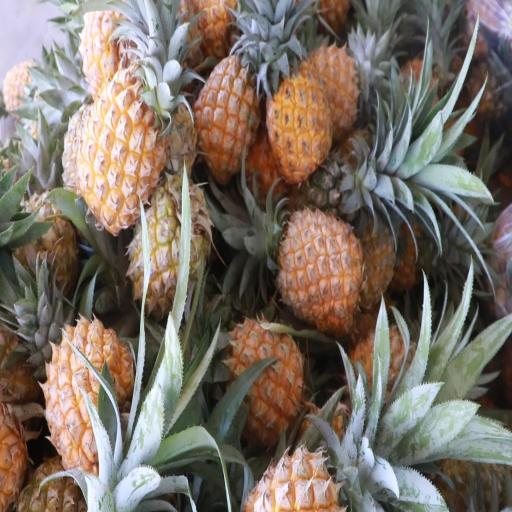------------------------------: (131, 184, 208, 314)
Pineapple - v8 v1: (77, 79, 164, 232), (49, 316, 133, 470), (276, 205, 360, 320), (223, 316, 305, 428), (190, 44, 259, 167), (267, 70, 332, 178), (79, 8, 141, 90)
